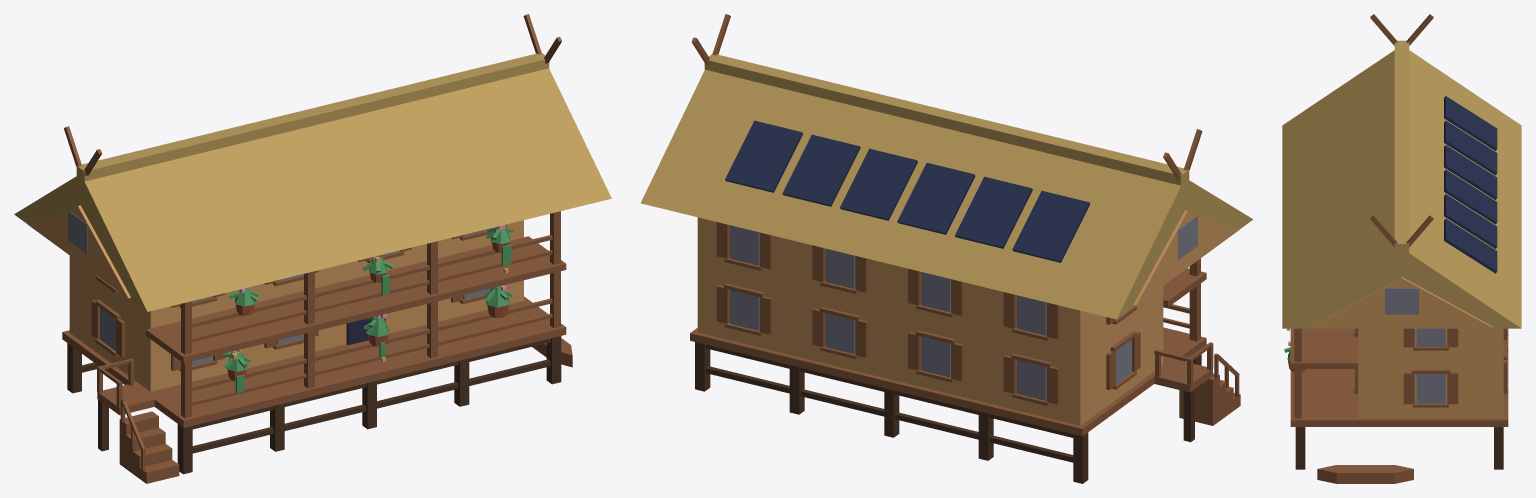
The model's file is house-2x1-2f-third-stilt-a-solar.glb.
3 views of the same model, side by side, from view 1: azimuth 30°, elevation 25°; view 2: azimuth 150°, elevation 25°; view 3: azimuth 270°, elevation 25° (orthographic). The views are drawn at different scales.
Parts seen in each view (by area): view 1: house-2x1-2f-third-stilt-a-solar; view 2: house-2x1-2f-third-stilt-a-solar; view 3: house-2x1-2f-third-stilt-a-solar.
Boxes of the visible parts, box(x1,y1,x2,y2) form: house-2x1-2f-third-stilt-a-solar: box(14, 14, 611, 483); house-2x1-2f-third-stilt-a-solar: box(641, 14, 1252, 483); house-2x1-2f-third-stilt-a-solar: box(1282, 14, 1521, 483).
Bounding box in the file's own units: 2.02 × 1.24 × 0.99.
Materials: 1 (1 with a texture image).
